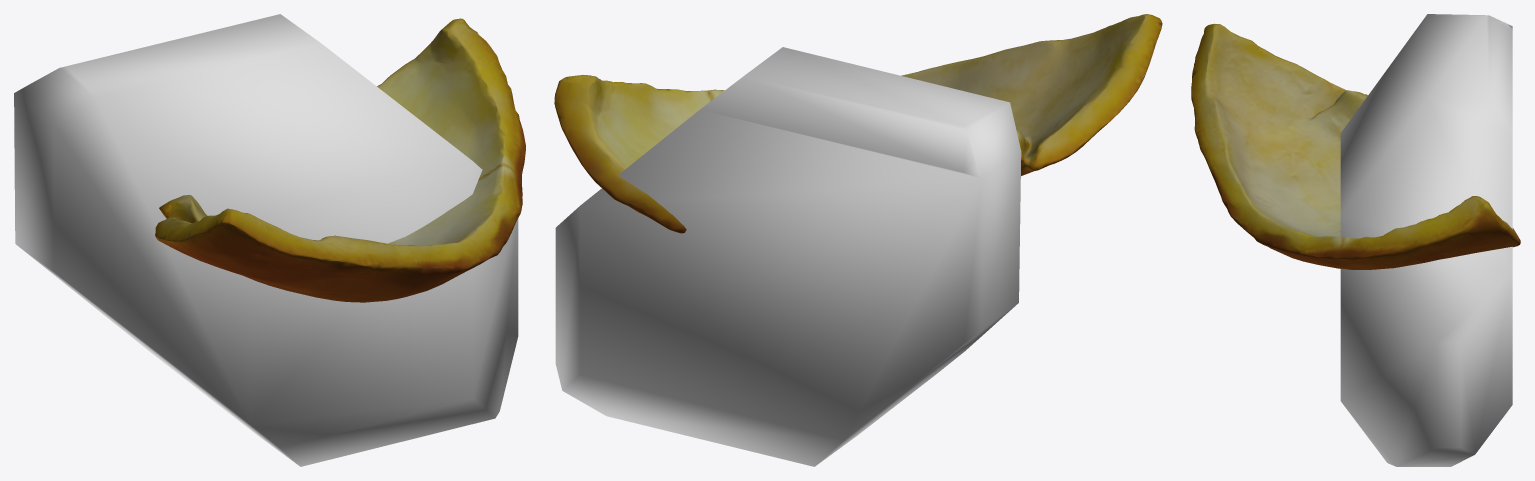
File: SM_Orange_B_Food.fbx
3 renders of one model, left to right at view 1: azimuth 30°, elevation 25°; view 2: azimuth 150°, elevation 25°; view 3: azimuth 270°, elevation 25°, orthographic. The views are drawn at different scales.
Visible parts, largest first — view 1: SM_Orange_B_Food_ConvexHulls, SM_Orange_B_Food; view 2: SM_Orange_B_Food_ConvexHulls, SM_Orange_B_Food; view 3: SM_Orange_B_Food_ConvexHulls, SM_Orange_B_Food.
Boxes of the visible parts, x1,y1,x2,y2 form: SM_Orange_B_Food_ConvexHulls: [14, 14, 518, 466]; SM_Orange_B_Food: [155, 18, 525, 302]; SM_Orange_B_Food_ConvexHulls: [555, 47, 1021, 466]; SM_Orange_B_Food: [554, 14, 1162, 233]; SM_Orange_B_Food_ConvexHulls: [1340, 14, 1512, 466]; SM_Orange_B_Food: [1191, 23, 1520, 269].
Size of the model in its own units: 0.085 by 0.0704 by 0.0683.
